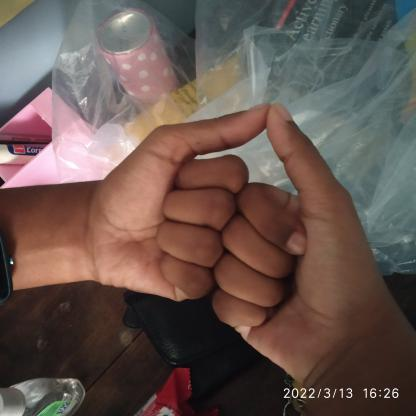A: (93, 92, 369, 380)
